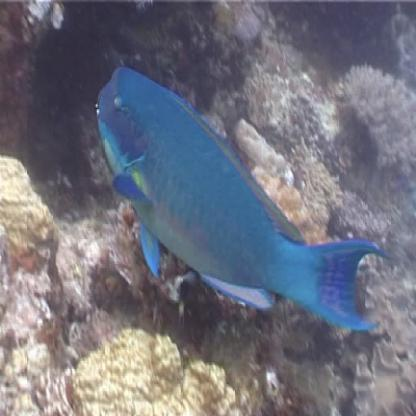parrot: (89, 48, 398, 338)
